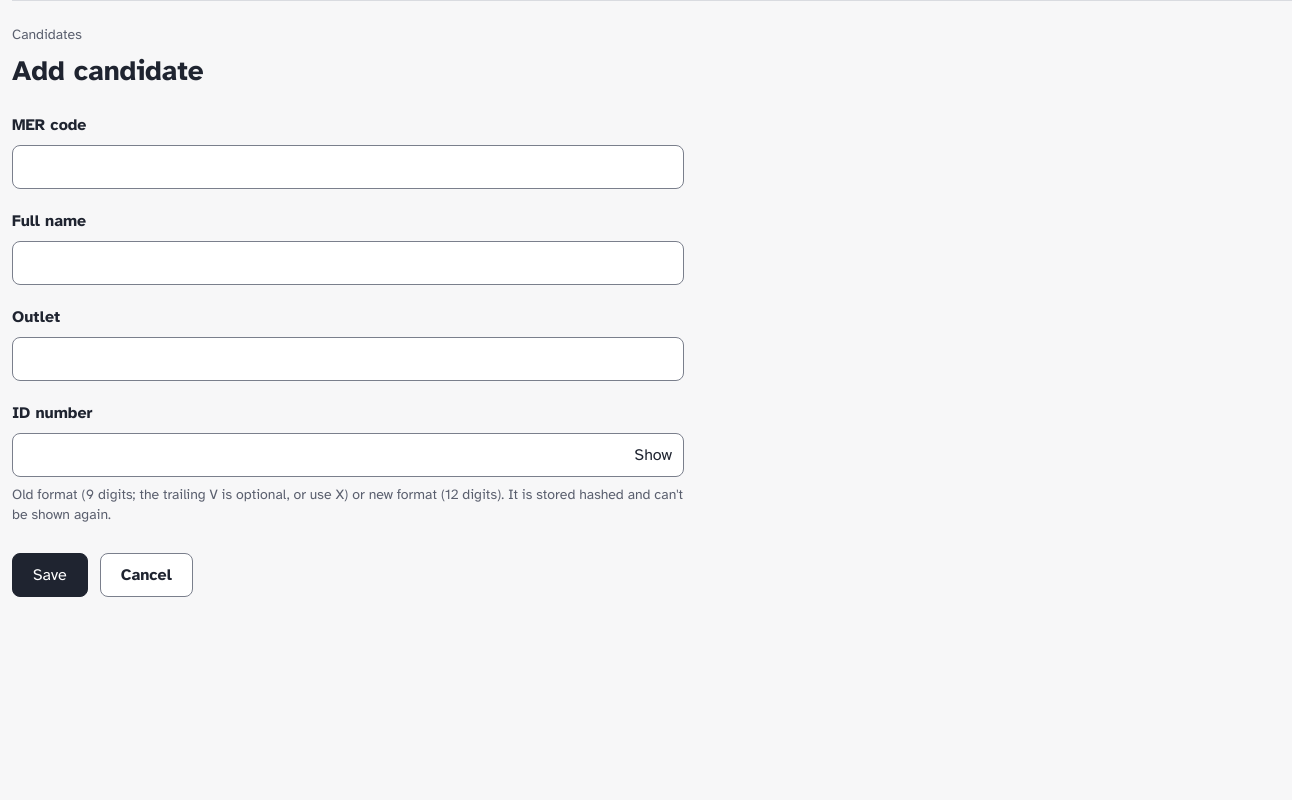
Test: CandidateForm › keeps field-level API validation inline
The width and height of the screenshot is (1292, 800).
Type "TEST-001" into the field labelled "MER code" at (348, 167), box [12,145,684,189]
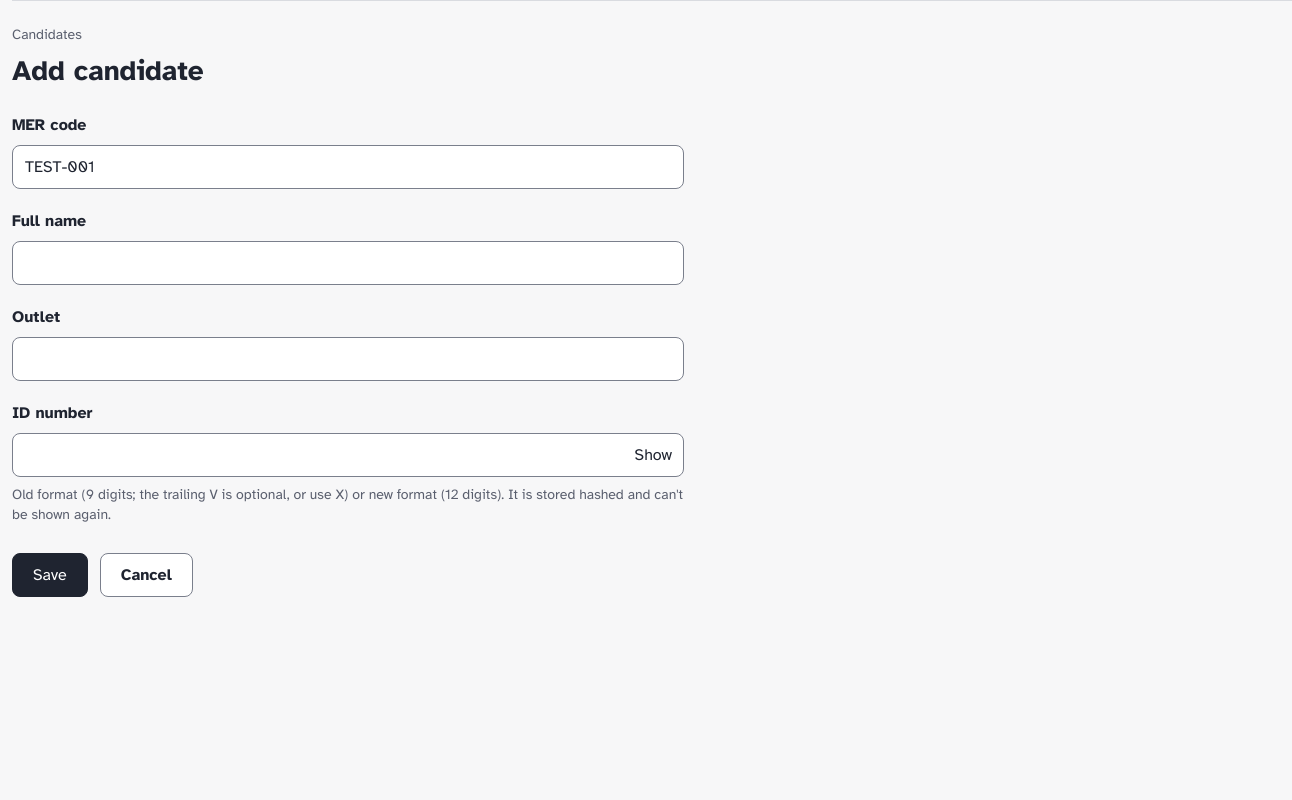
Type "Candidate" into the field labelled "Full name" at (348, 263), box [12,241,684,285]
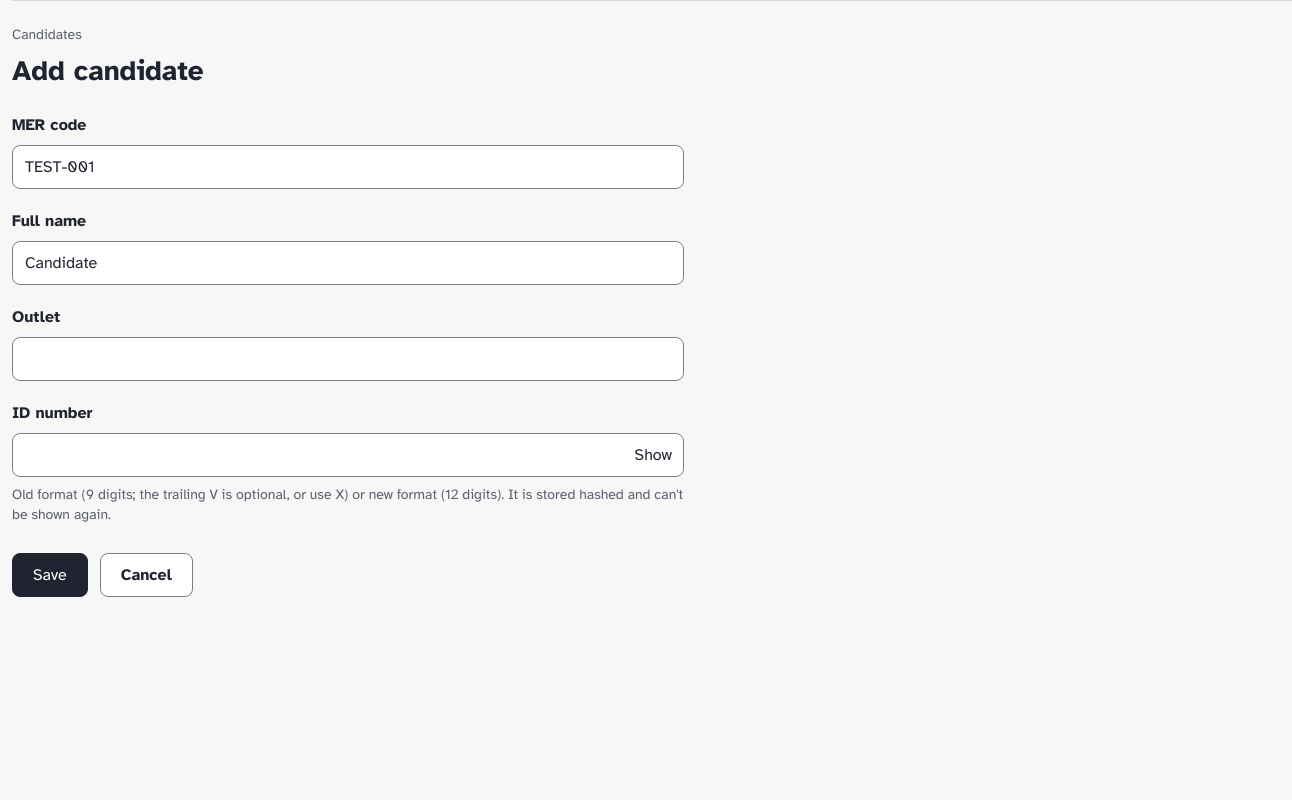
Type "123456789" into the password field labelled "ID number" at (348, 455), box [12,433,684,477]
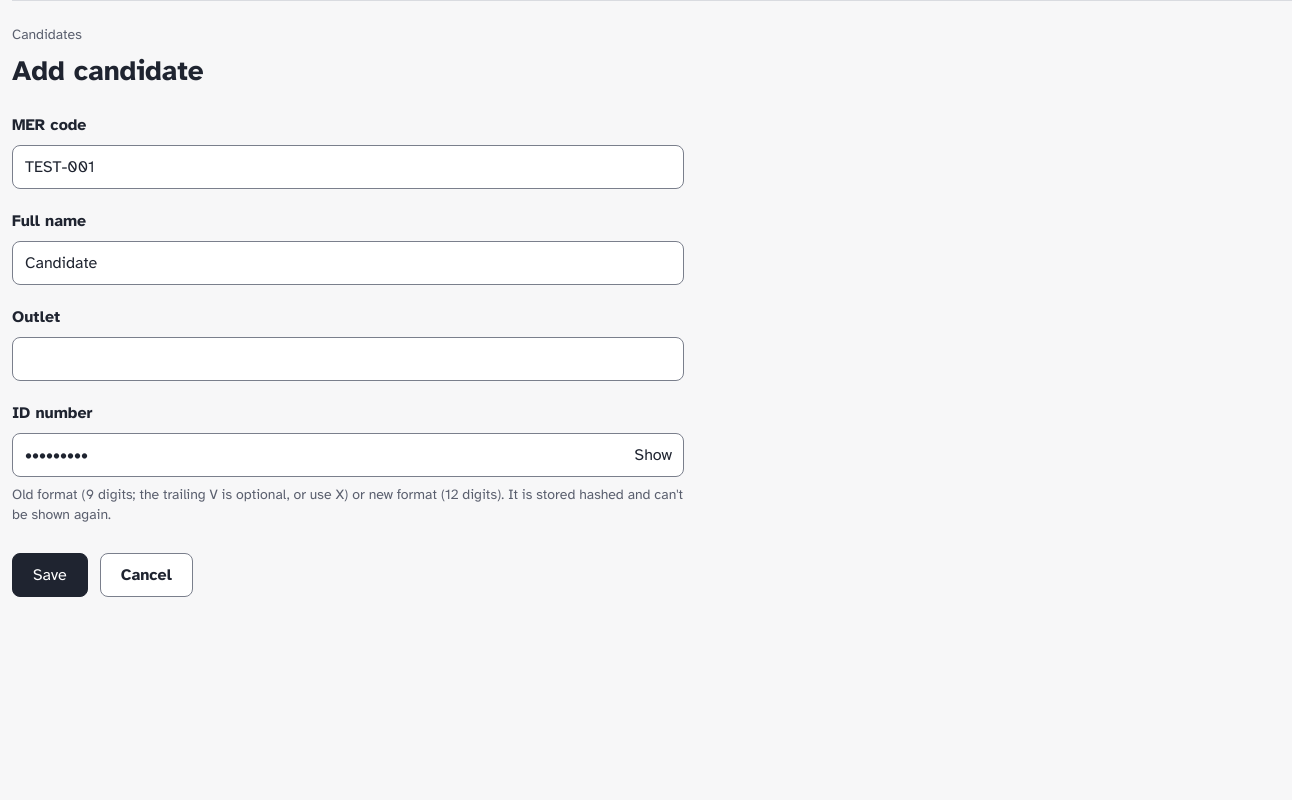
Click the button "Save" at (50, 575), box [12,553,88,597]
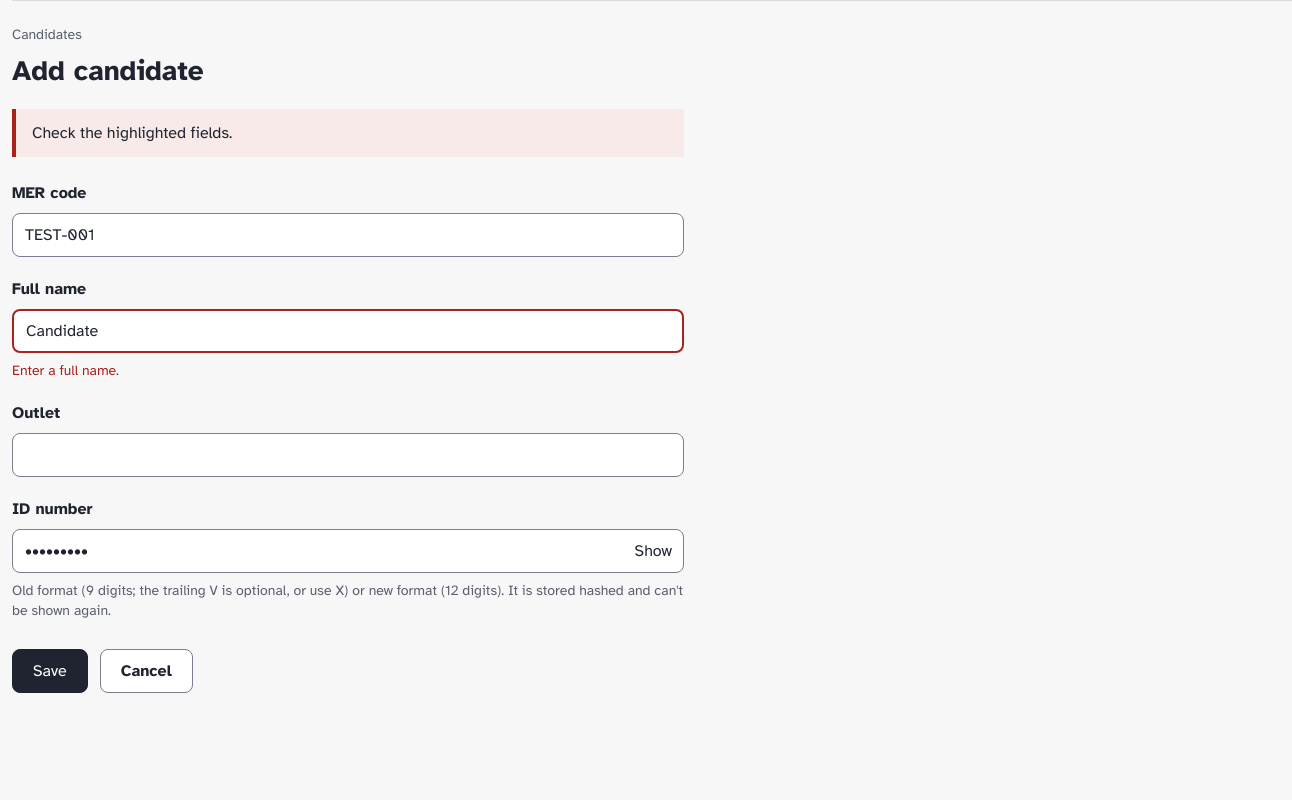
Check: the text "Enter a full name." is shown, box [11,361,119,379]
Check: the text "Check the highlighted fields." is shown, box [12,109,684,157]
